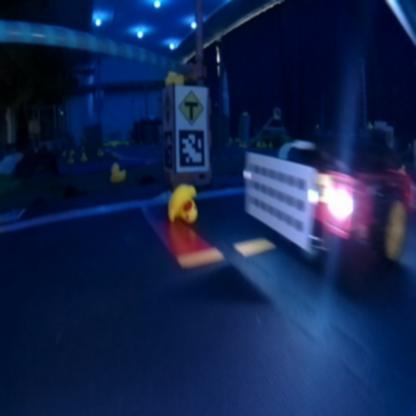duckie: (238, 122, 415, 275), (160, 179, 207, 227)
duckiebot: (238, 122, 415, 275)
